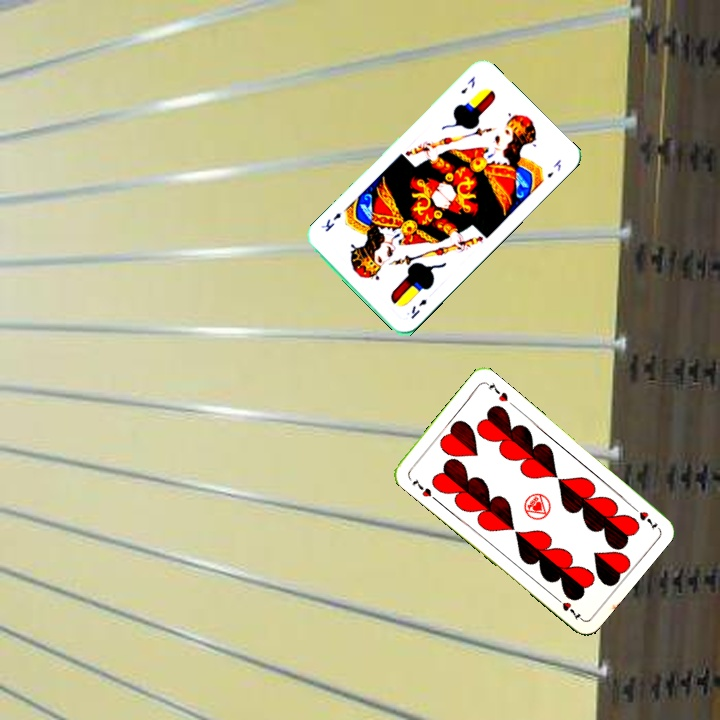EK: (407, 294, 430, 321), (457, 72, 478, 96)
H7: (627, 501, 661, 533), (408, 475, 434, 499)
